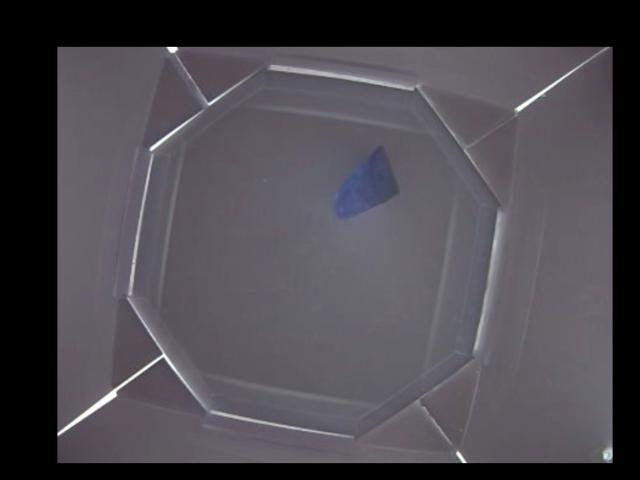Mooli: (335, 145, 395, 222)
